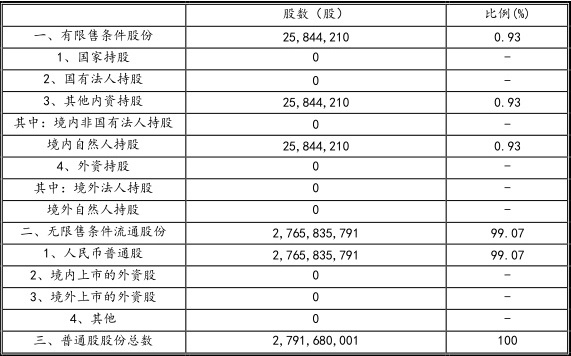column: (13, 1, 174, 356), (272, 1, 358, 356), (485, 1, 529, 356)
row: (1, 94, 571, 108), (1, 203, 571, 217), (1, 29, 571, 42), (1, 51, 571, 64), (1, 116, 571, 129), (1, 182, 571, 195), (1, 269, 571, 282), (1, 290, 571, 303), (1, 225, 570, 238), (1, 7, 571, 19), (1, 73, 571, 85), (1, 138, 571, 150), (1, 160, 571, 172), (1, 313, 571, 325), (1, 335, 571, 347), (1, 247, 571, 258)
